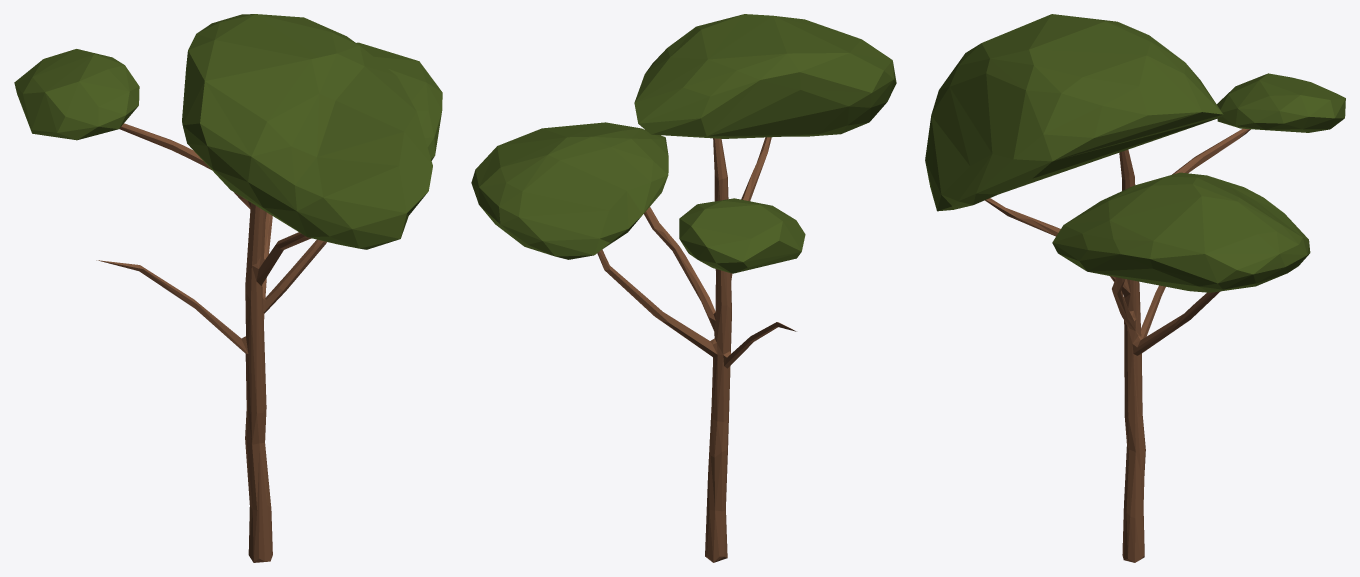
The model's file is SM_tree_greek_03.fbx.
3 views of the same model, side by side, from view 1: azimuth 30°, elevation 25°; view 2: azimuth 150°, elevation 25°; view 3: azimuth 270°, elevation 25° (orthographic). The views are drawn at different scales.
Parts seen in each view (by area): view 1: Object010; view 2: Object010; view 3: Object010.
Part boxes in pixels (left/top/right/bottom): Object010: left=14, top=14, right=442, bottom=562; Object010: left=471, top=14, right=896, bottom=562; Object010: left=925, top=14, right=1345, bottom=562.
Size of the model in its own units: 134 by 192 by 143.
